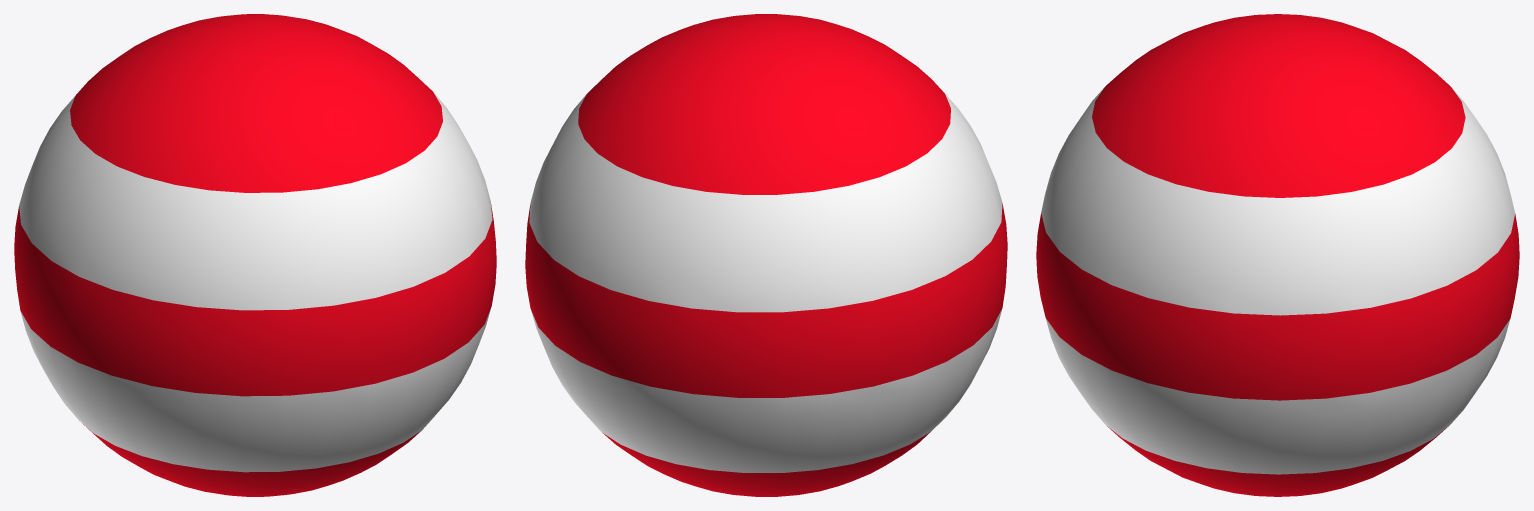
File: ToyObject_068.fbx
3 renders of one model, left to right at view 1: azimuth 30°, elevation 25°; view 2: azimuth 150°, elevation 25°; view 3: azimuth 270°, elevation 25°, orthographic.
Visible parts, largest first — view 1: Object.087; view 2: Object.087; view 3: Object.087.
Part boxes in pixels (x1,y1,x2,y2): Object.087: (14, 14, 496, 496); Object.087: (525, 14, 1007, 496); Object.087: (1036, 14, 1519, 496).
Bounding box in the file's own units: 0.0897 × 0.0897 × 0.0897.
